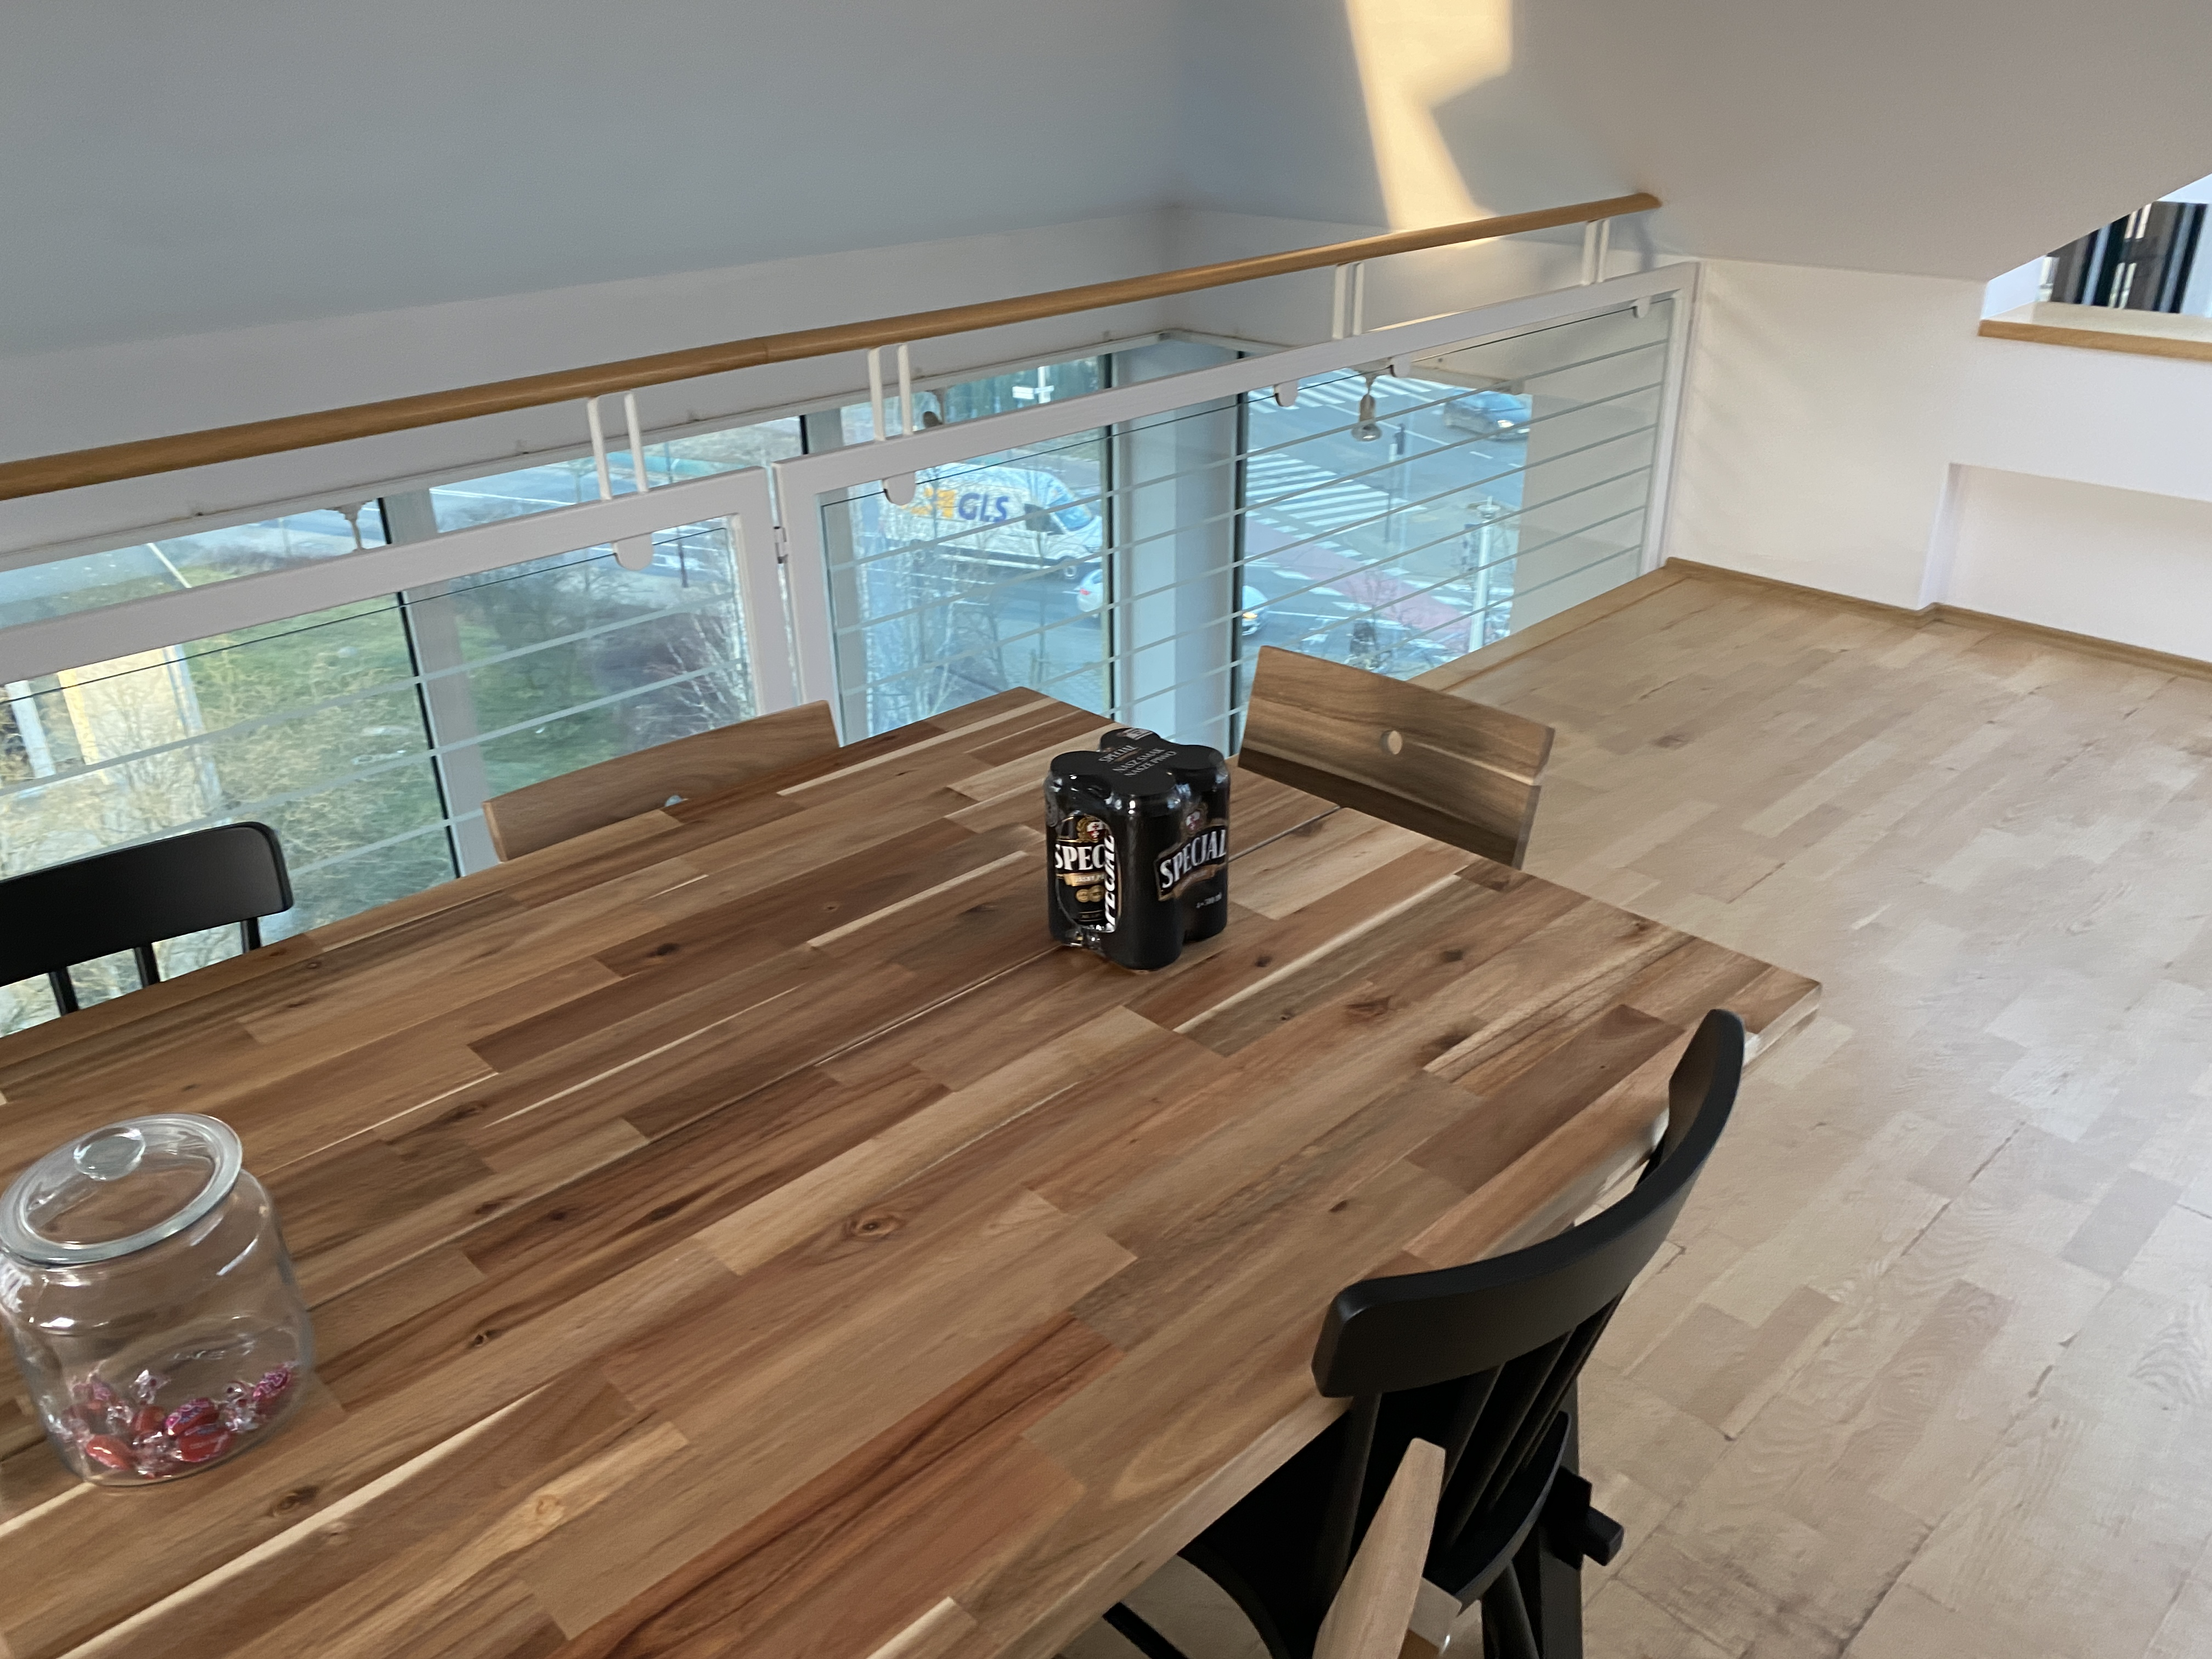specjal: (1042, 732, 1235, 976)
